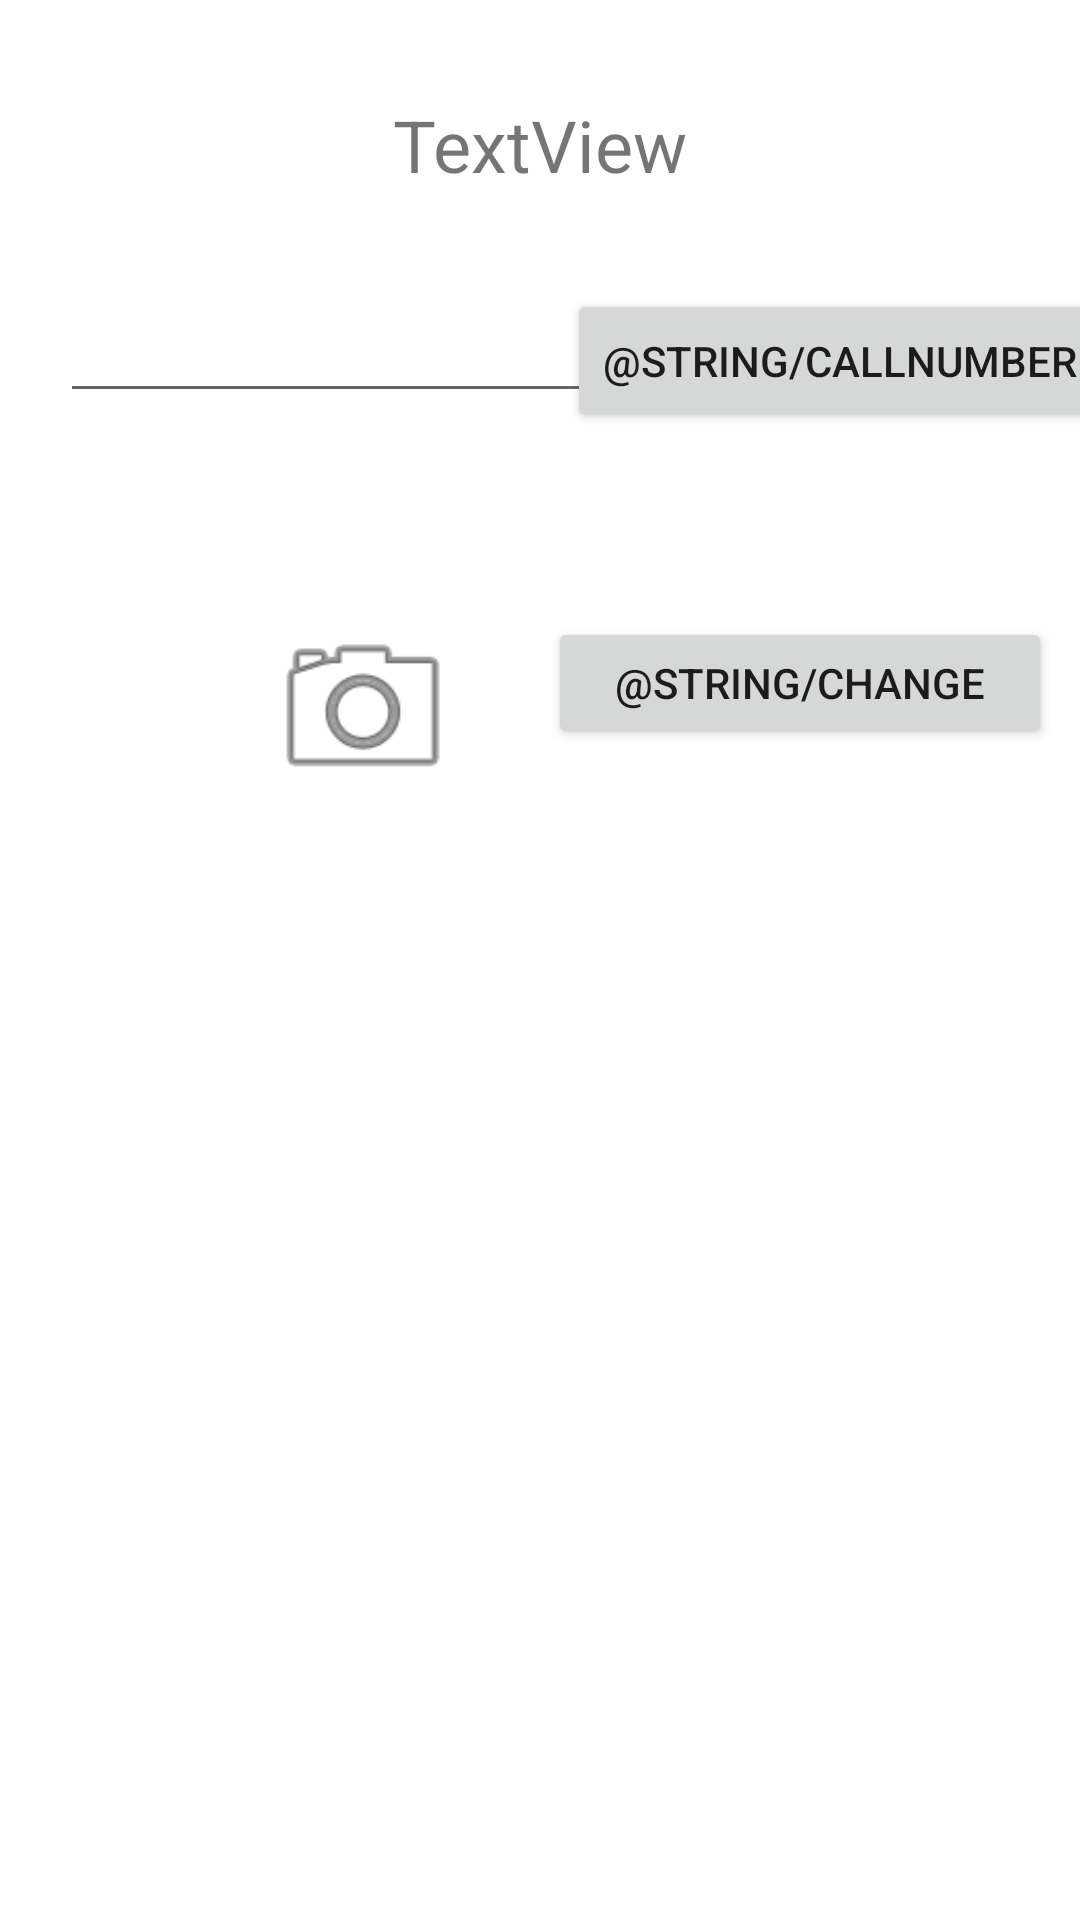

Icons on this 1080x1920 Android screen, each with its box as (x1, y1, x2, y2):
camera: (286, 644, 440, 767)
